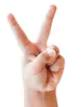front: (7, 4, 71, 91)
